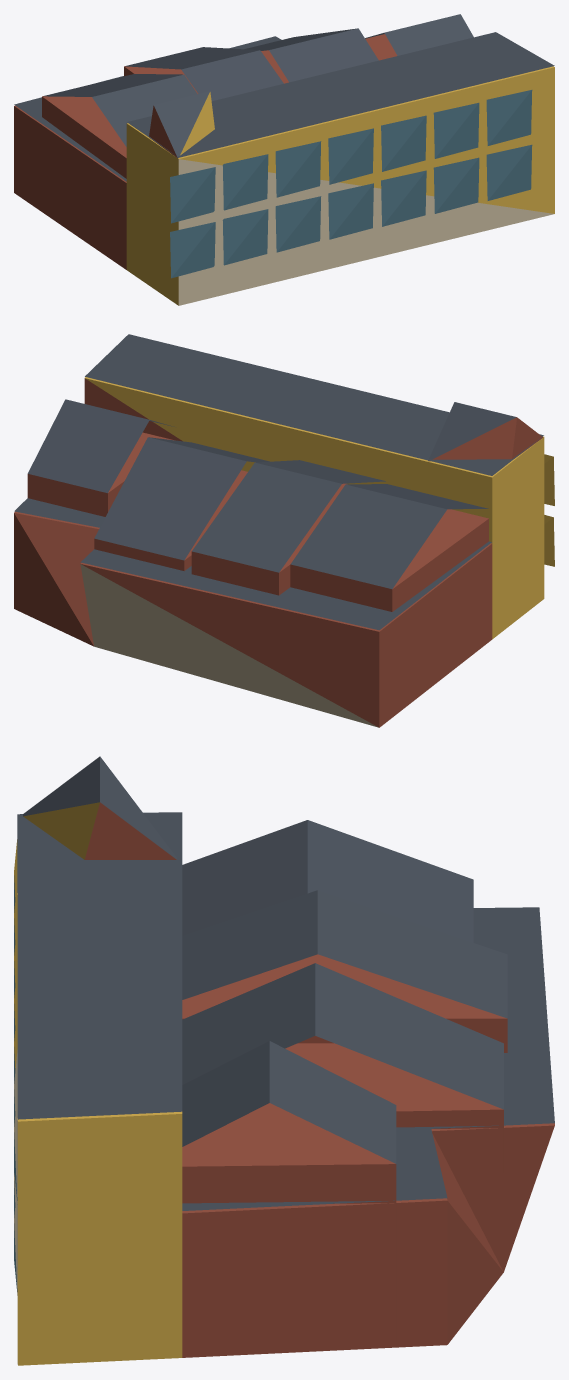
File: tobacco-theater.lod2.glb
3 views of the same model, one above another, from view 1: azimuth 30°, elevation 25°; view 2: azimuth 150°, elevation 25°; view 3: azimuth 270°, elevation 25° (orthographic). The views are drawn at different scales.
Parts seen in each view (by area): view 1: lod2; view 2: lod2; view 3: lod2.
Part boxes in pixels (bbox=[...]): lod2: bbox=[14, 14, 554, 305]; lod2: bbox=[14, 334, 554, 727]; lod2: bbox=[14, 756, 554, 1365].
Size of the model in its own units: 29.2 by 13.25 by 21.37.
